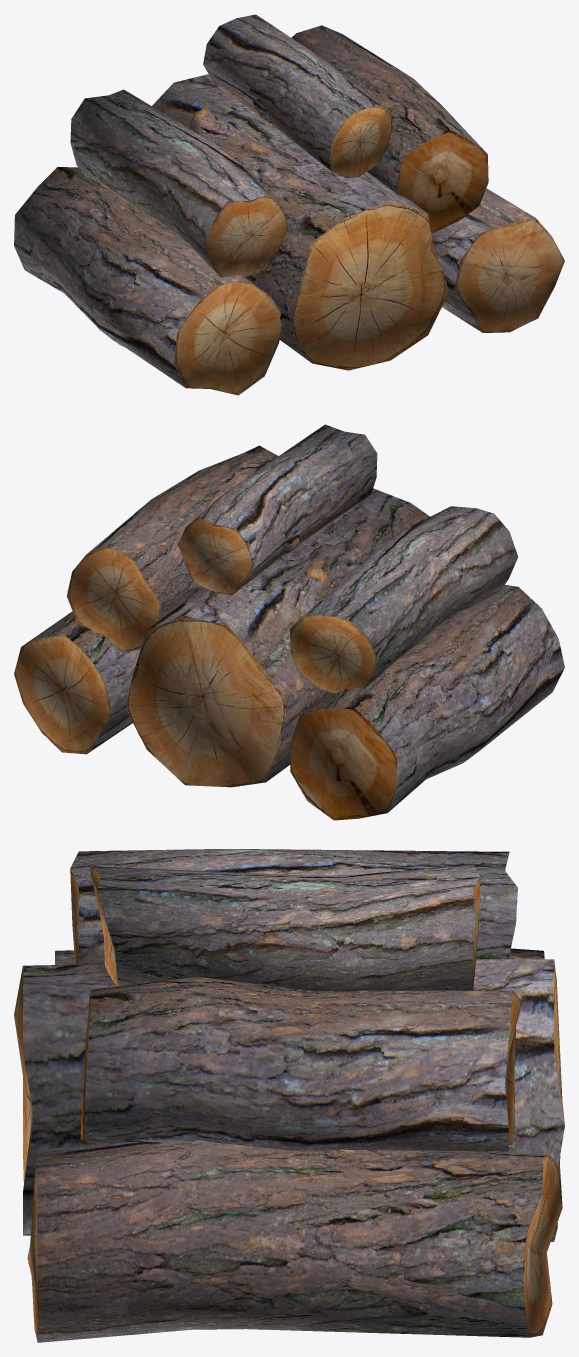
File: nf_logs.glb
3 renders of one model, top to bottom at view 1: azimuth 30°, elevation 25°; view 2: azimuth 150°, elevation 25°; view 3: azimuth 270°, elevation 25°, orthographic. The views are drawn at different scales.
Visible parts, largest first — view 1: objdefault; view 2: objdefault; view 3: objdefault.
Boxes of the visible parts, box(x1,y1,x2,y2) form: objdefault: box(14, 14, 564, 395); objdefault: box(14, 424, 564, 820); objdefault: box(14, 849, 564, 1342).
Bounding box in the file's own units: 44.31 × 26.31 × 35.51.
Materials: 1 (1 with a texture image).
